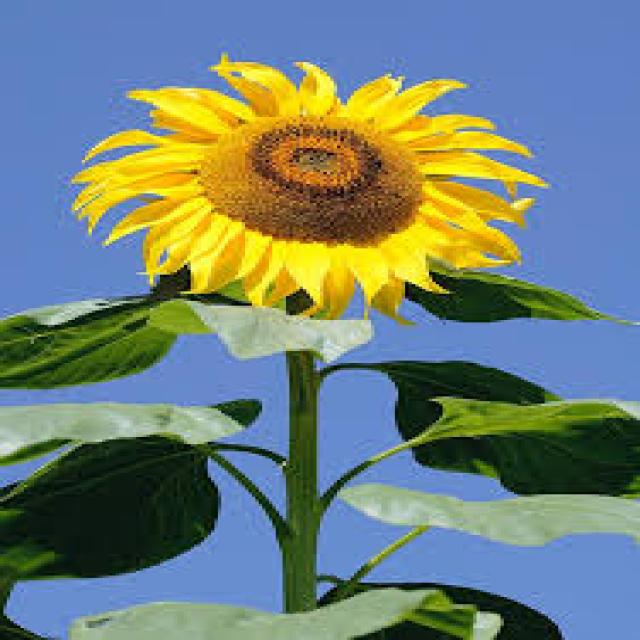sunflower: (66, 45, 585, 332)
